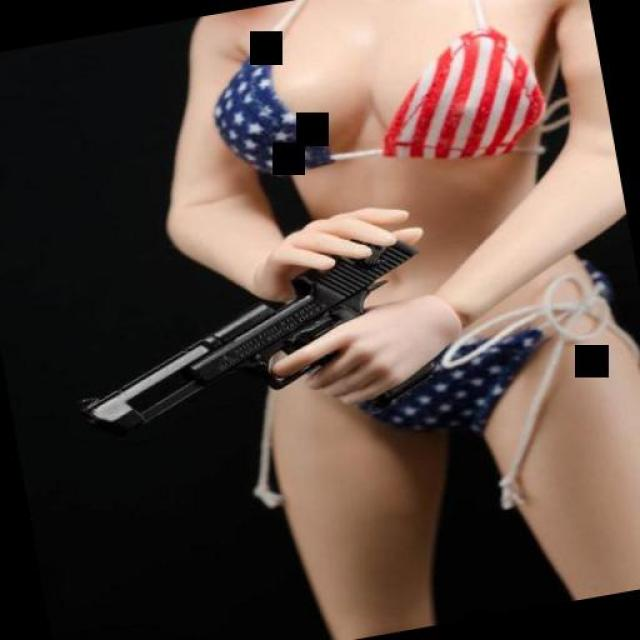gun: (48, 224, 444, 466)
